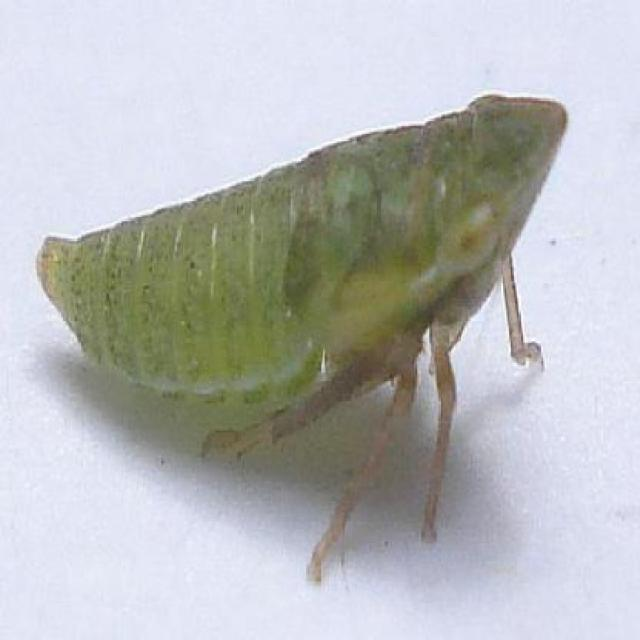green-leafhopper: (29, 95, 568, 580)
